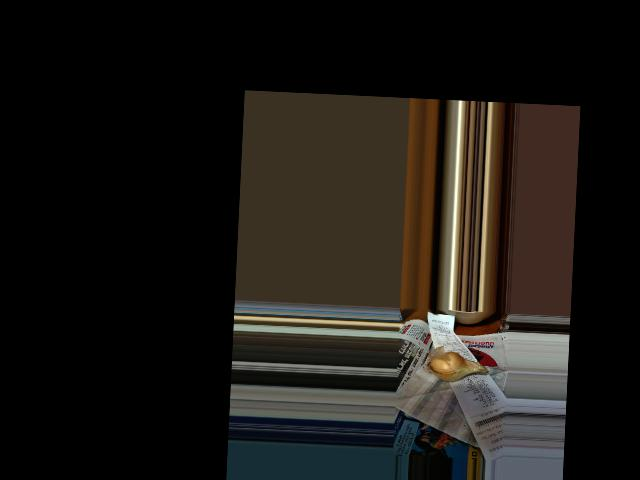onion: (428, 352, 484, 385)
